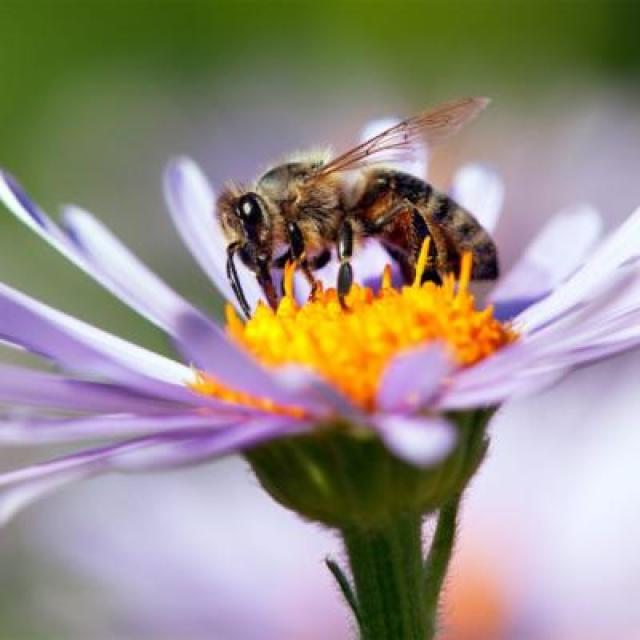antennae: (224, 242, 254, 317)
body: (213, 156, 500, 284)
insect: (211, 91, 504, 329)
legs: (366, 200, 444, 282), (288, 223, 326, 304), (338, 211, 352, 316), (253, 265, 280, 314)
mouthpart: (248, 242, 274, 268)
wings: (304, 94, 494, 186)
